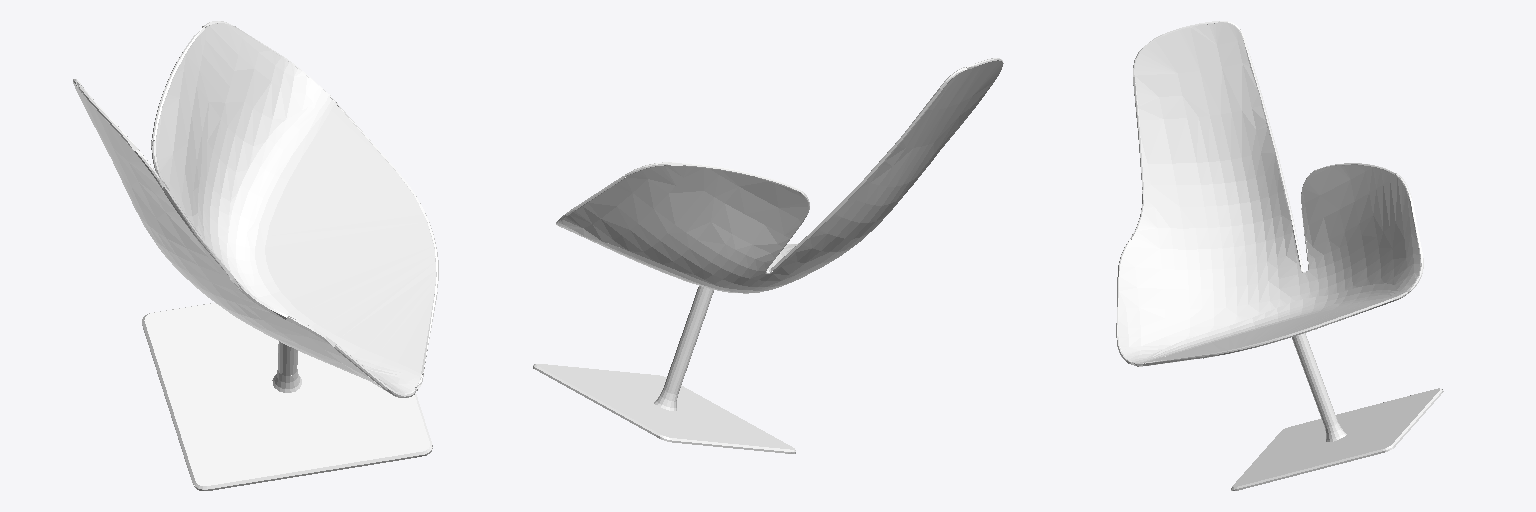
URDF robot description (chair_0893.urdf):
<?xml version="1.0" ?>
<robot name="chair_0893.urdf">
  <link name="baseLink">
    <contact>
      <lateral_friction value="1.0"/>
      <inertia_scaling value="1.0"/>
    </contact>
    <inertial>
      <origin rpy="0 0 0" xyz="-0.244133 0.083121 0.316496"/>
       <mass value="5.899735"/>
       <inertia ixx="0.310918" ixy="-0.077224" ixz="0.095889" iyy="0.318396" iyz="0.028630" izz="0.287125"/>
     </inertial>
    <visual>
      <origin rpy="0 0 0" xyz="0 0 0"/>
      <geometry>
				<mesh filename="chair_0893.obj" scale="1 1 1"/>
      </geometry>
       <material name="white">
        <color rgba="1 1 1 1"/>
      </material>
    </visual>
    <collision>
      <origin rpy="0 0 0" xyz="0 0 0"/>
      <geometry>
        <mesh filename="chair_0893_vhacd.obj" scale="1 1 1"/>
      </geometry>
    </collision>
  </link>
</robot>


--- What the picture shows (computed from the rendered views, not written in the file) ---
The picture shows the robot from 3 angles, left to right: view 1: azimuth 30°, elevation 25°; view 2: azimuth 150°, elevation 25°; view 3: azimuth 270°, elevation 25°; orthographic projection.
Model chair_0893.urdf with 1 links and 0 joints (none), rooted at baseLink, posed every joint at zero.
Links seen in each view (by area): view 1: baseLink; view 2: baseLink; view 3: baseLink.
Boxes of the visible links, <box> form: baseLink: <box>73,21,438,490</box>; baseLink: <box>533,58,1003,453</box>; baseLink: <box>1116,21,1443,490</box>.
Bounding box of the posed robot: 0.6897 × 0.6355 × 0.7569 m (x, y, z).
1 mesh visuals loaded from 1 distinct referenced files (1 OBJ).